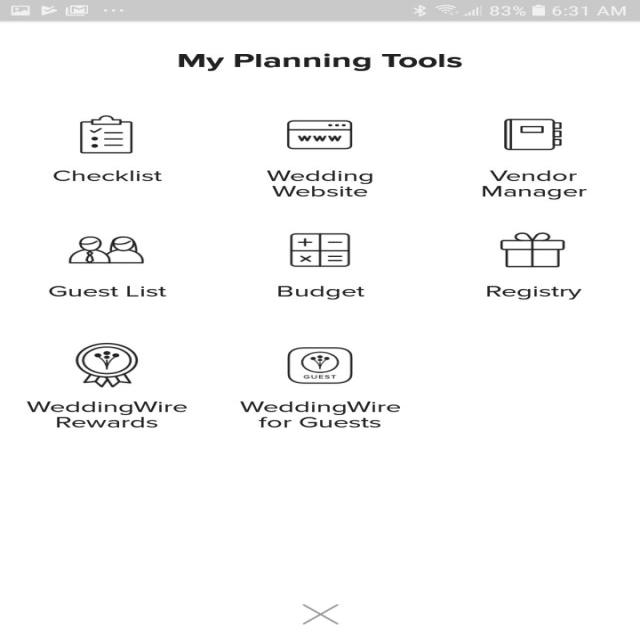Icon: (500, 232, 564, 267), (79, 115, 133, 154), (286, 119, 353, 150), (503, 118, 562, 150), (301, 603, 339, 625)
Image: (74, 342, 138, 388), (286, 347, 353, 384), (288, 232, 350, 267), (68, 236, 144, 263)
Text: (178, 54, 462, 72), (239, 400, 400, 428), (27, 401, 186, 427), (481, 170, 587, 200), (266, 170, 372, 197), (486, 286, 582, 300), (53, 170, 162, 182), (278, 286, 364, 300), (48, 286, 166, 296)
